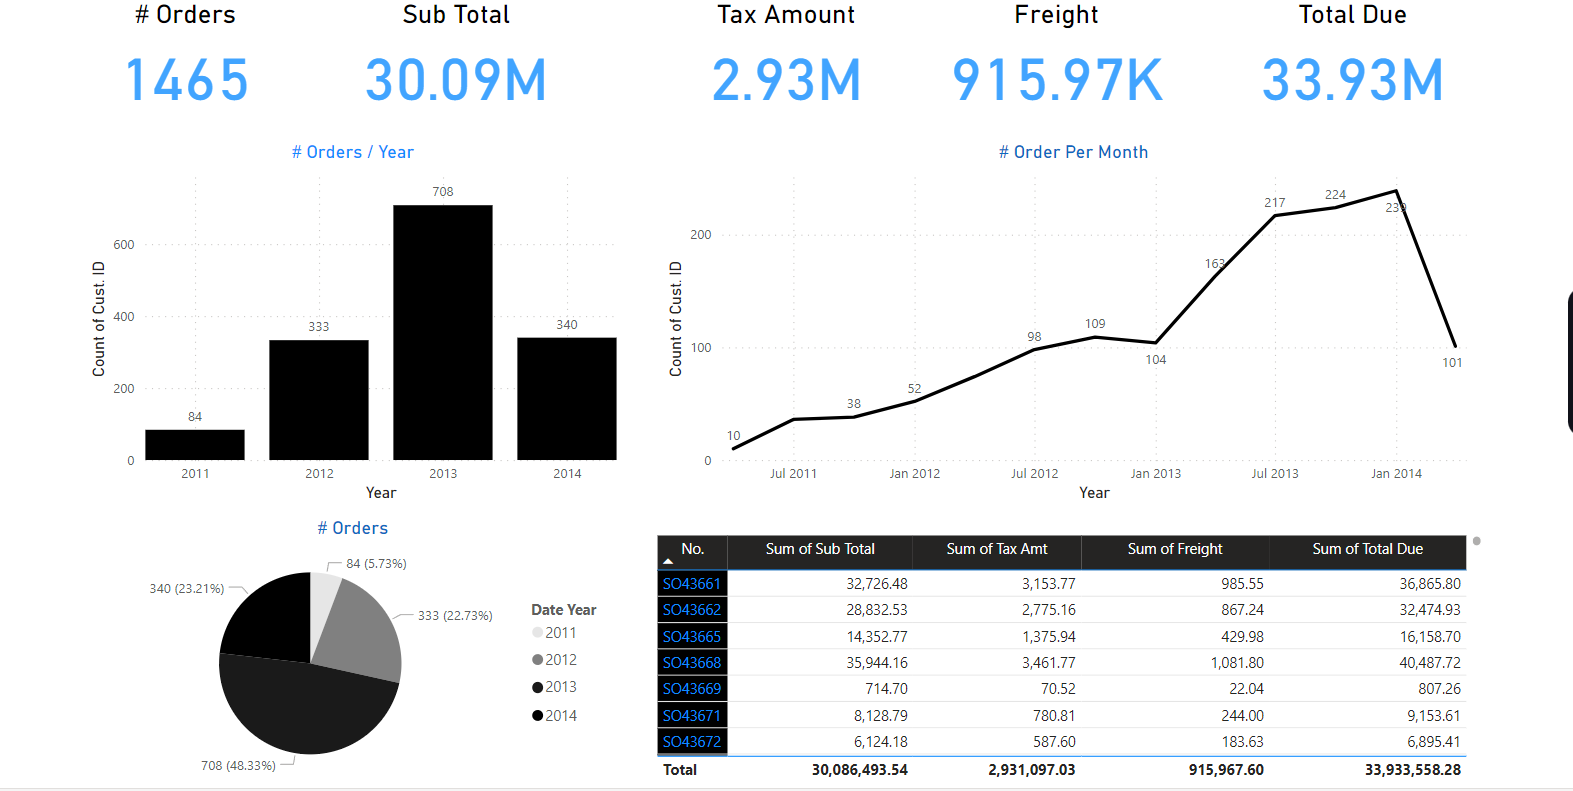

The dashboard page shown, as its layout file describes it:
{"tool":"powerbi","page":{"name":"Page 1","canvas":[1280,720],"ordinal":0},"visuals":[{"type":"card","title":"# Orders","fields":{"Values":["CountNonNull(Sales - PDF - Table.Cust. ID)"]},"box":[0,0,185.4,103.4],"z":0},{"type":"card","title":"Sub Total","fields":{"Values":["Sum(Sales - PDF - Table.Sub Total)"]},"box":[230.6,0,217.5,103.4],"z":2},{"type":"card","title":"Tax Amount","fields":{"Values":["Sum(Sales - PDF - Table.Tax Amt)"]},"box":[533.6,0,213.9,103.4],"z":3},{"type":"card","title":"Total Due","fields":{"Values":["Sum(Sales - PDF - Table.Total Due)"]},"box":[1050.6,0,215.1,103.4],"z":4},{"type":"card","title":"Freight","fields":{"Values":["Sum(Sales - PDF - Table.Freight)"]},"box":[780.8,0,212.7,103.4],"z":5},{"type":"clusteredColumnChart","title":"# Orders / Year","fields":{"Category":["Sales - PDF - Table.Date.Variation.Date Hierarchy.Year"],"Y":["CountNonNull(Sales - PDF - Table.Cust. ID)"]},"box":[0,128.4,490.8,335.2],"z":6},{"type":"pieChart","title":"# Orders","fields":{"Category":["Sales - PDF - Table.Date.Variation.Date Hierarchy.Year"],"Y":["CountNonNull(Sales - PDF - Table.Cust. ID)"]},"box":[0,471.6,490.8,248.4],"z":7},{"type":"tableEx","fields":{"Values":["Sales - PDF - Table.No.","Sum(Sales - PDF - Table.Sub Total)","Sum(Sales - PDF - Table.Tax Amt)","Sum(Sales - PDF - Table.Freight)","Sum(Sales - PDF - Table.Total Due)"]},"box":[517,484.7,763,235.3],"z":8},{"type":"lineChart","title":"# Order Per Month","fields":{"Category":["Sales - PDF - Table.Date.Variation.Date Hierarchy.Year","Sales - PDF - Table.Date.Variation.Date Hierarchy.Quarter","Sales - PDF - Table.Date.Variation.Date Hierarchy.Month","Sales - PDF - Table.Date.Variation.Date Hierarchy.Day"],"Y":["CountNonNull(Sales - PDF - Table.Cust. ID)"]},"box":[526.5,128.4,753.5,335.2],"z":9}]}

Visuals, with their boxes on the page's 1280x720 design canvas (x1, y1, x2, y2). These are canvas units, not pixel positions in the 1573x791 screenshot, which may show the page scaled, cropped or inside an application window:
"# Orders" card: (0,0,185,103)
"Sub Total" card: (231,0,448,103)
"Tax Amount" card: (534,0,748,103)
"Total Due" card: (1051,0,1266,103)
"Freight" card: (781,0,994,103)
"# Orders / Year" clusteredColumnChart: (0,128,491,464)
"# Orders" pieChart: (0,472,491,720)
tableEx - Sales - PDF - Table.No. x Sum(Sales - PDF - Table.Sub Total): (517,485,1280,720)
"# Order Per Month" lineChart: (526,128,1280,464)
